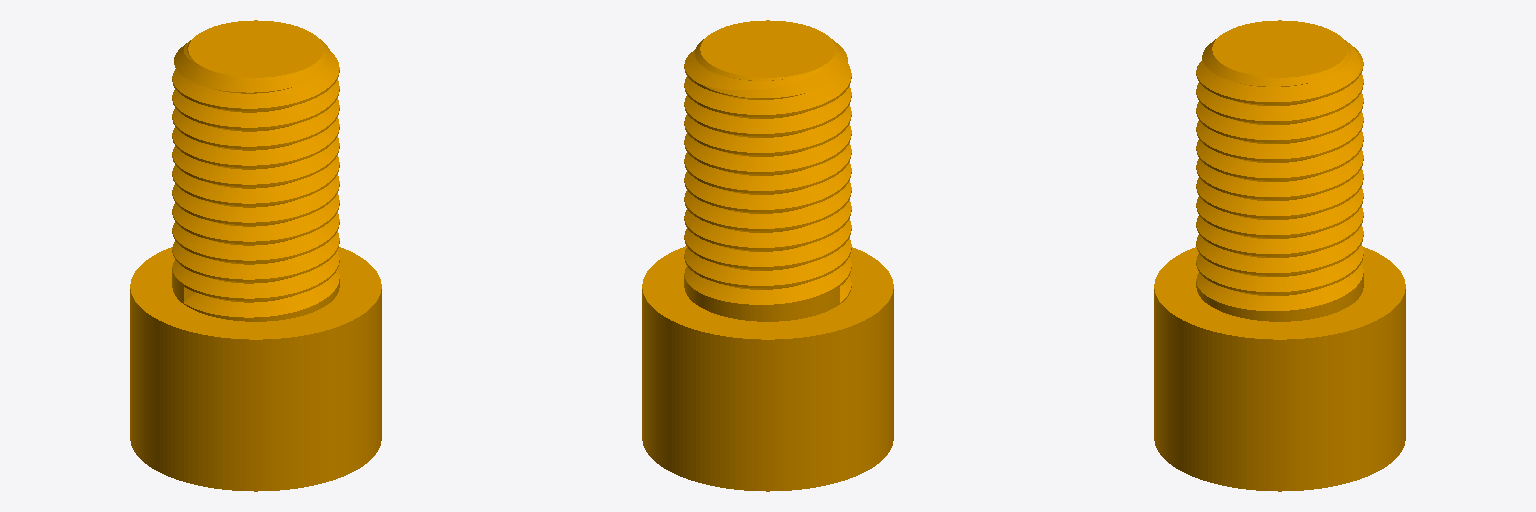
The robot description file, URDF, robot "factory_bolt_m16_tight":
<?xml version="1.0"?>
<robot name="factory_bolt_m16_tight">
    <link name="factory_bolt_m16_tight">
        <visual>
            <geometry>
                <mesh filename="../mesh/factory_nut_bolt/factory_bolt_m16_tight.obj"/>
            </geometry>
        </visual>
        <collision>
            <geometry>
                <mesh filename="../mesh/factory_nut_bolt/factory_bolt_m16_tight.obj"/>
            </geometry>
            <sdf resolution="512"/>
        </collision>
    </link>
</robot>

--- Facts derived from the render (not from the file) ---
The picture shows the robot from 3 angles, left to right: view 1: azimuth 30°, elevation 25°; view 2: azimuth 150°, elevation 25°; view 3: azimuth 270°, elevation 25°; orthographic projection.
Model factory_bolt_m16_tight with 1 links and 0 joints (none), rooted at factory_bolt_m16_tight, posed all joints at 0.
Links seen in each view (by area): view 1: factory_bolt_m16_tight; view 2: factory_bolt_m16_tight; view 3: factory_bolt_m16_tight.
Link boxes in pixels (<box>): factory_bolt_m16_tight: <box>130,20,381,491</box>; factory_bolt_m16_tight: <box>642,20,893,491</box>; factory_bolt_m16_tight: <box>1154,20,1405,491</box>.
Size in the robot's own frame: 0.024 by 0.024 by 0.041 metres.
1 mesh visuals loaded from 1 distinct referenced files (1 OBJ).